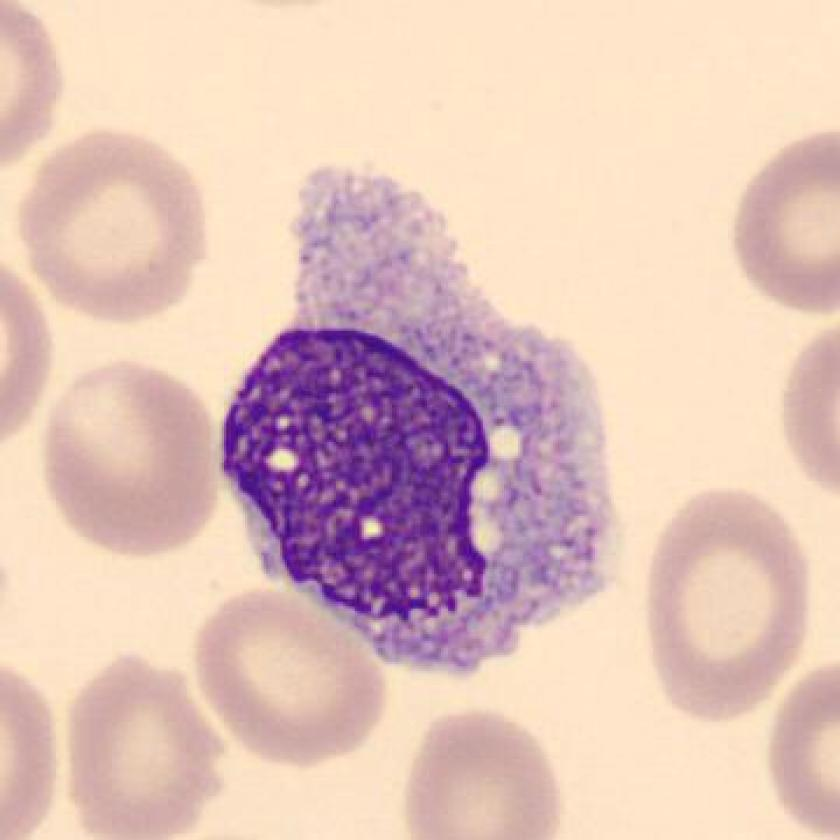monocyte: (200, 147, 662, 691)
